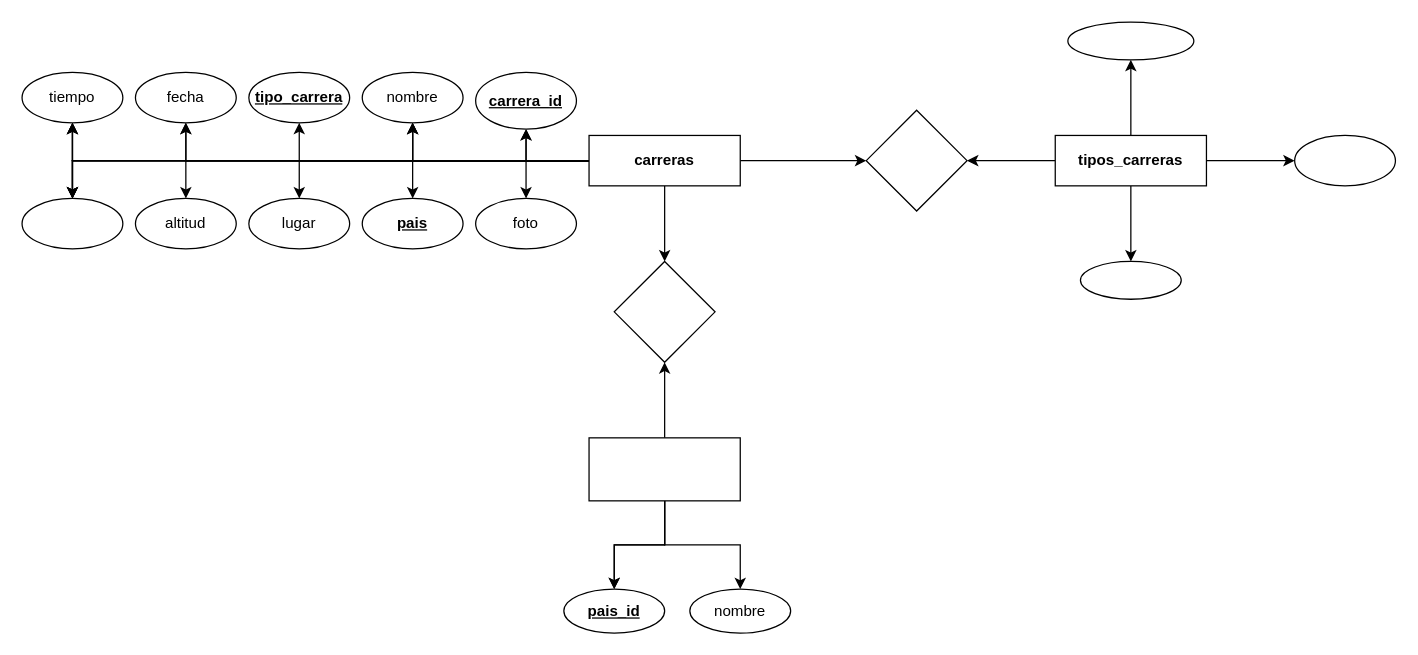
Some shapes in this 1418 by 655 pixel diagram are drawn without their labels. Here are the shapes that lost their labels. From the top down, the box of each, then its label:
(1067, 21, 1194, 60): tipo_carrera_id
(865, 109, 967, 211): pertenece
(1293, 134, 1395, 186): descripcion
(21, 197, 123, 249): mejor_tiempo
(1079, 260, 1181, 299): distancia
(613, 260, 715, 362): se corre
(588, 437, 740, 501): paises
